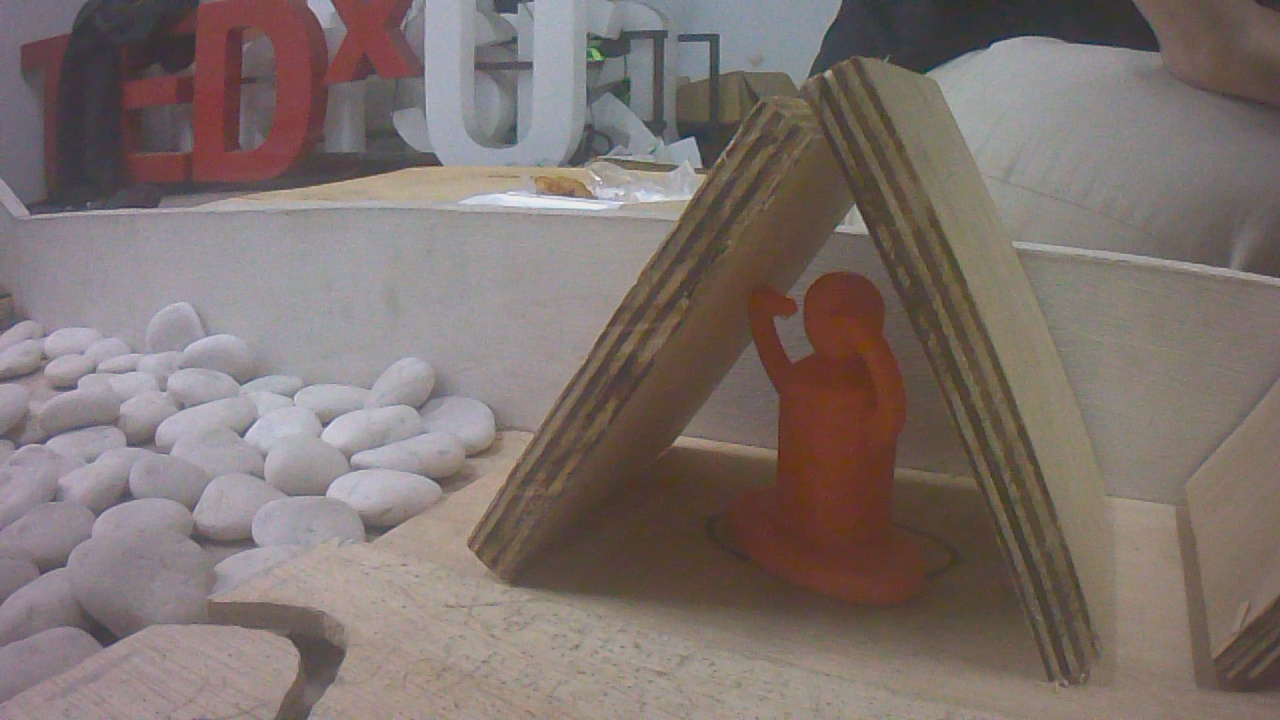real: (734, 255, 927, 612)
